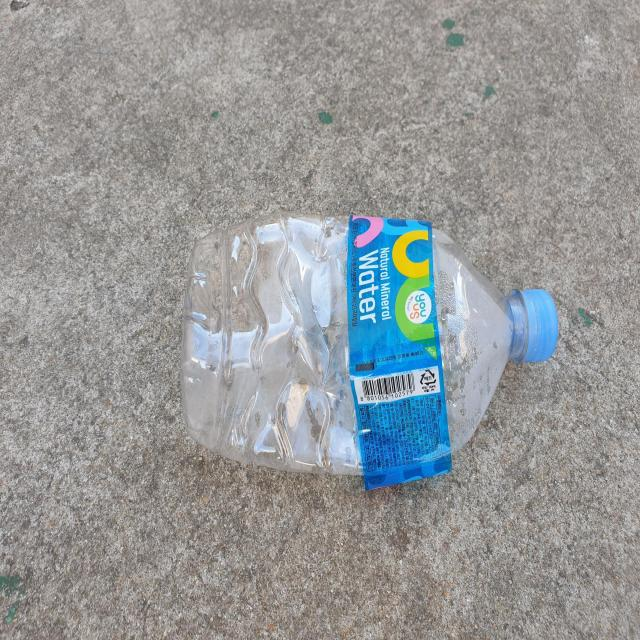plastic: (181, 212, 559, 490)
